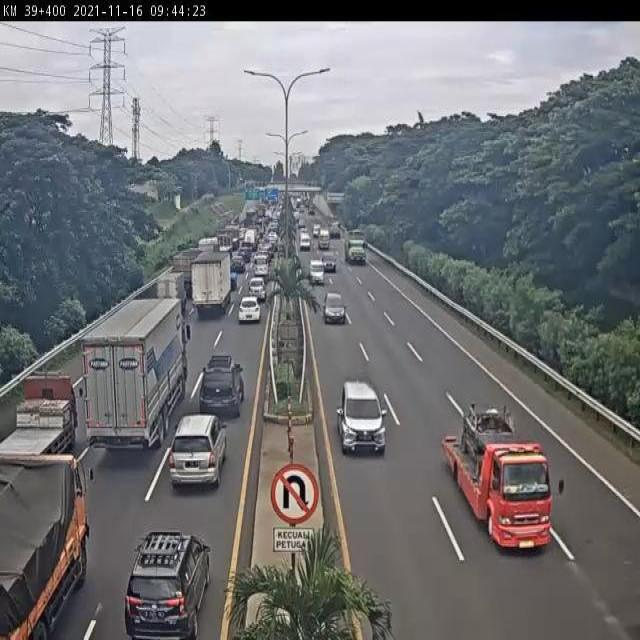ARABA: (125, 532, 211, 640), (170, 414, 230, 490), (337, 381, 388, 456), (201, 355, 246, 417), (323, 292, 347, 325), (238, 298, 262, 322), (308, 259, 325, 285)
KAMYONET: (442, 399, 566, 552), (0, 373, 82, 479), (192, 251, 232, 317), (159, 272, 190, 316)
TIR: (82, 298, 191, 454)
